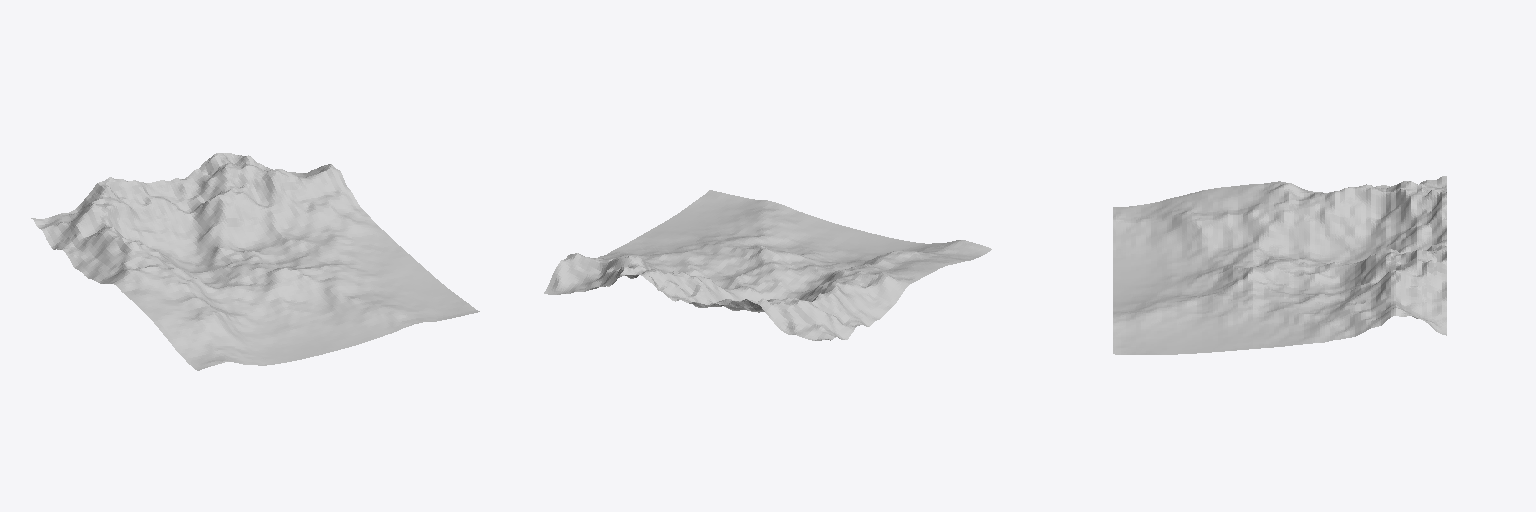
The model's file is ground3.obj.
3 views of the same model, side by side, from view 1: azimuth 30°, elevation 25°; view 2: azimuth 150°, elevation 25°; view 3: azimuth 270°, elevation 25° (orthographic).
Parts seen in each view (by area): view 1: ground3; view 2: ground3; view 3: ground3.
Part boxes in pixels (x1,y1,x2,y2): ground3: (31, 153, 479, 370); ground3: (544, 190, 991, 340); ground3: (1113, 176, 1446, 354).
Size of the model in its own units: 84.57 by 19.1 by 86.44.